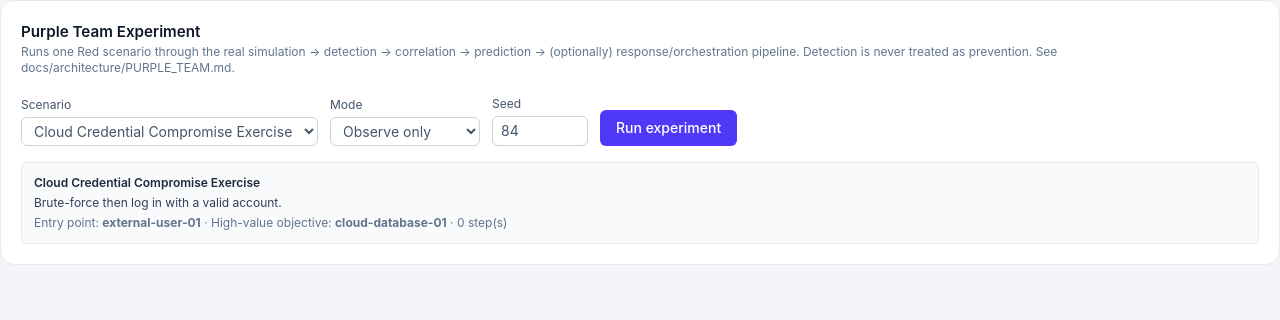
Purple Team panel › surfaces a backend error without crashing
Click the button "Run experiment" at (669, 128), box [600, 110, 737, 146]
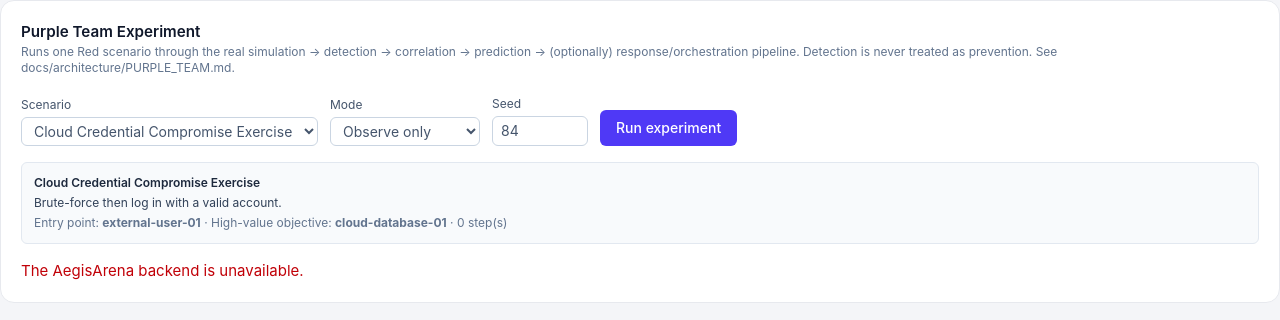
Result: the message reads "The AegisArena backend is unavailable." at [21, 261, 304, 280]
